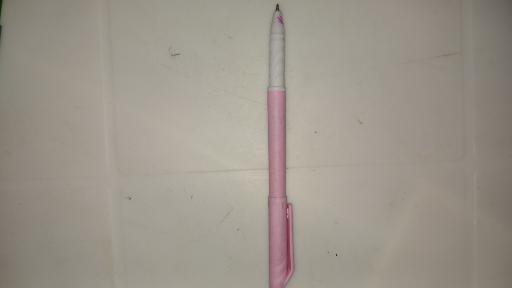pen: (268, 2, 293, 288)
